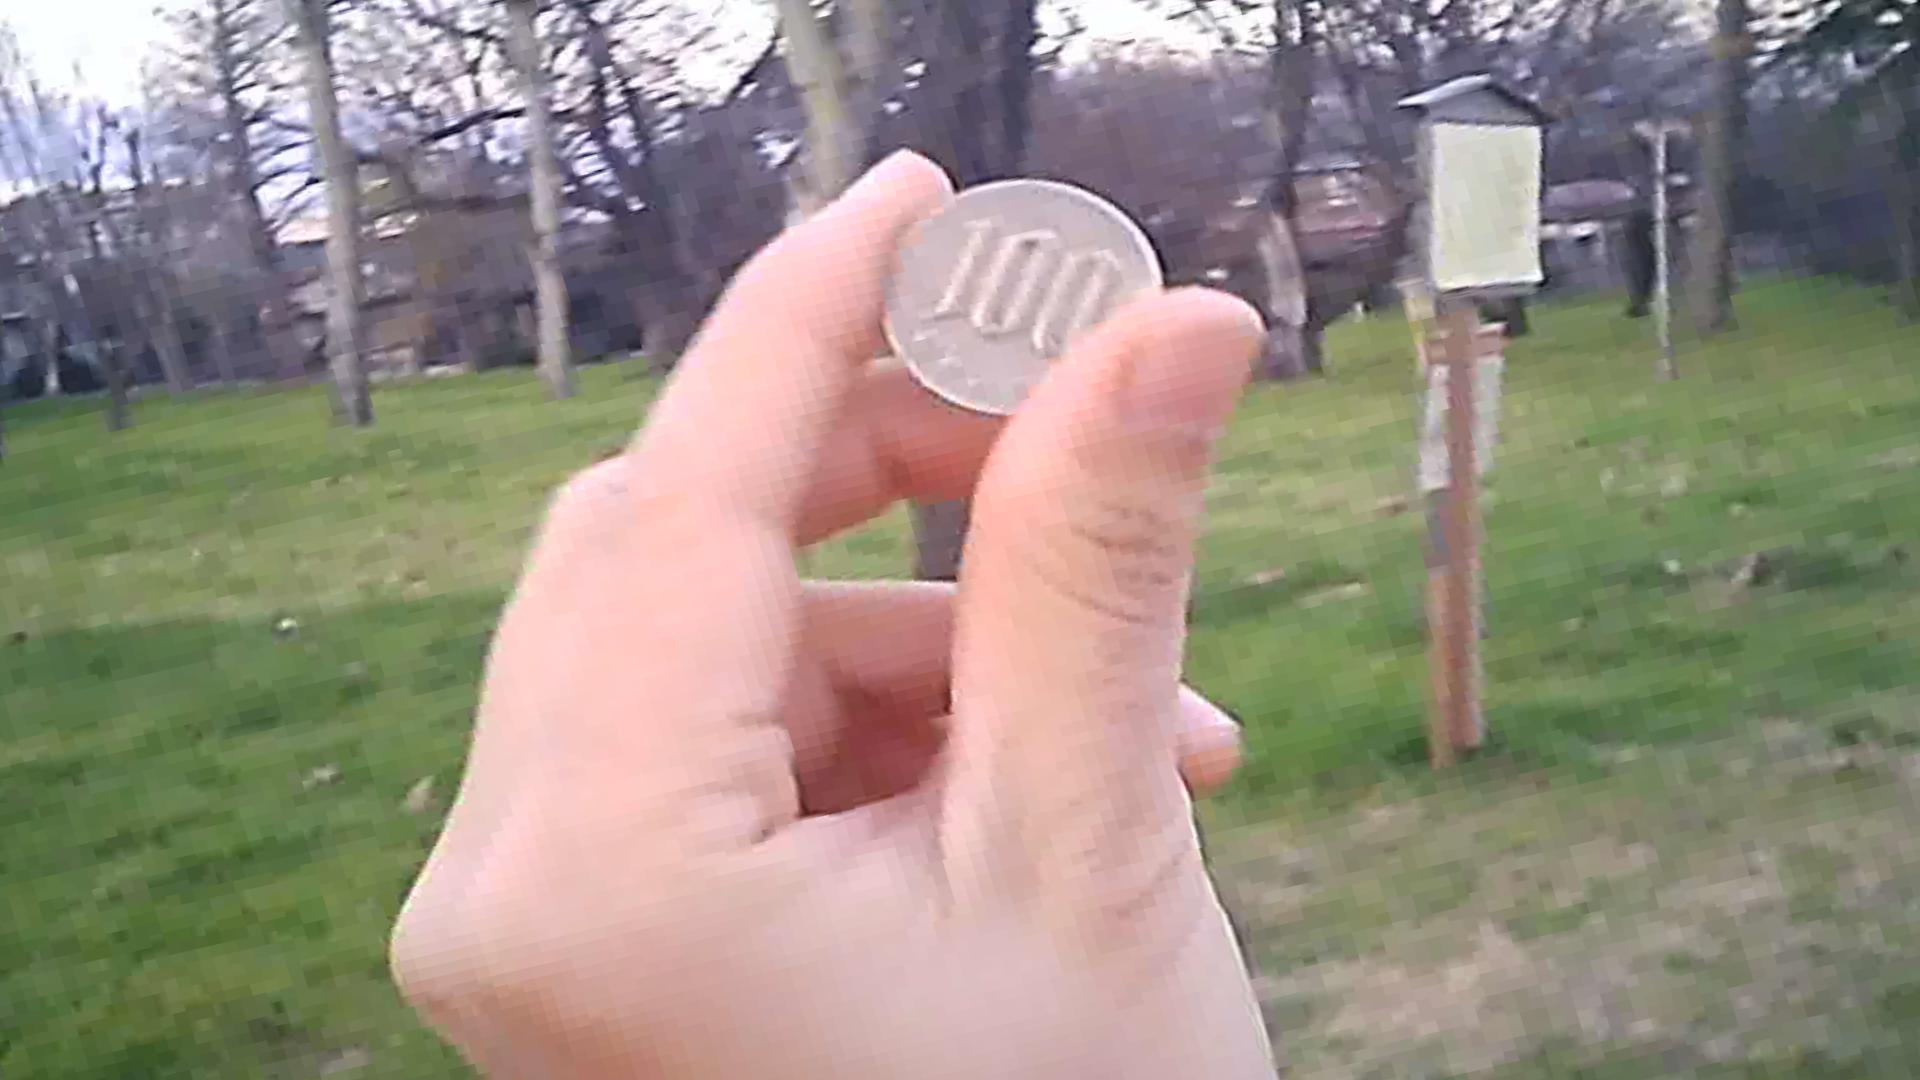100 Yen: (873, 164, 1159, 429)
